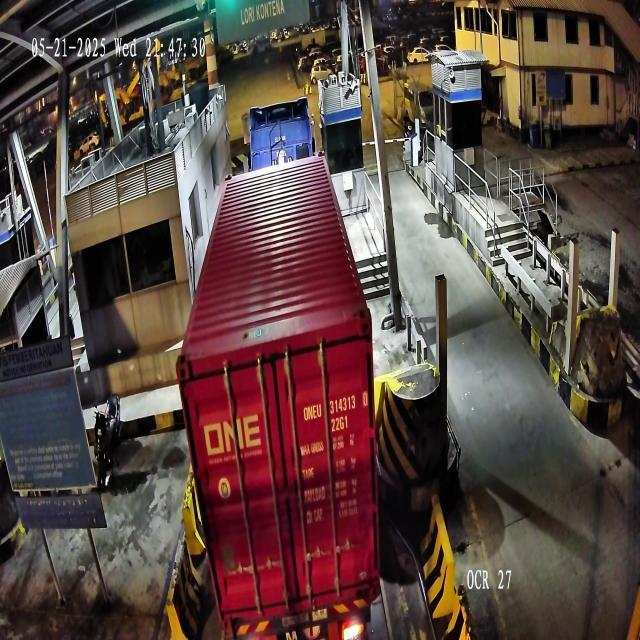ISO: (331, 415, 348, 433)
container_number: (304, 390, 368, 420)
